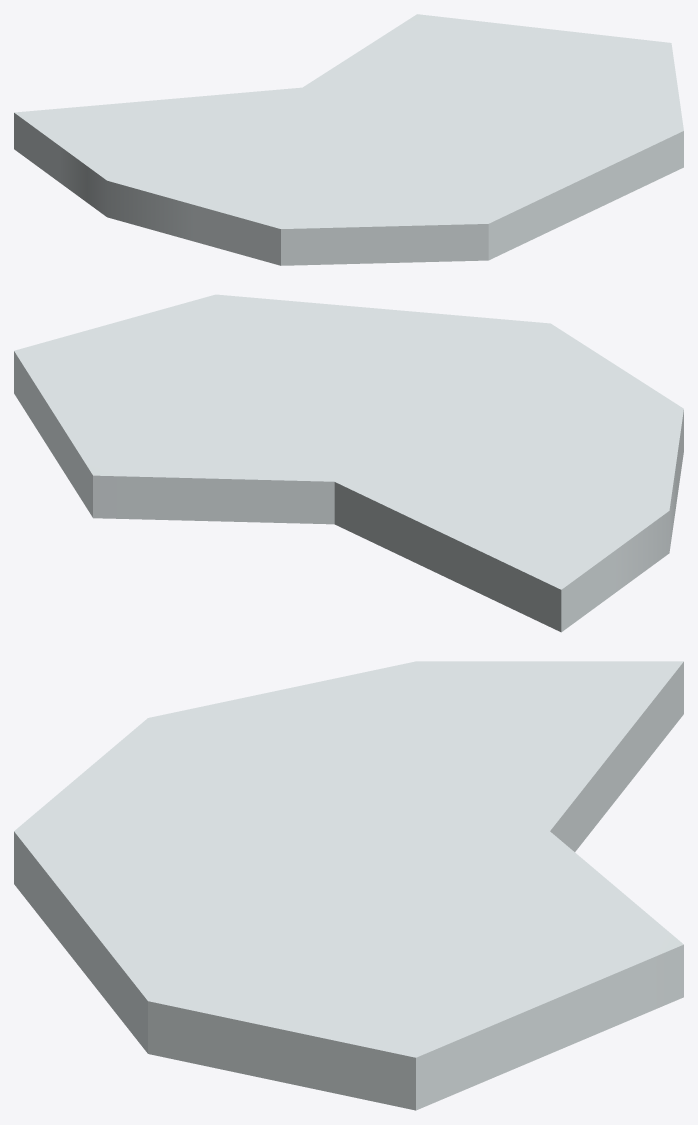
The model's file is ice1.glb.
3 views of the same model, one above another, from view 1: azimuth 30°, elevation 25°; view 2: azimuth 150°, elevation 25°; view 3: azimuth 270°, elevation 25° (orthographic). The views are drawn at different scales.
Visible parts, largest first — view 1: ice_01; view 2: ice_01; view 3: ice_01.
Part boxes in pixels (bbox=[...]): ice_01: bbox=[14, 14, 683, 265]; ice_01: bbox=[14, 294, 683, 632]; ice_01: bbox=[14, 661, 683, 1110].
Bounding box in the file's own units: 4.95 × 0.3075 × 3.54.
Materials: 1 (1 with a texture image).
